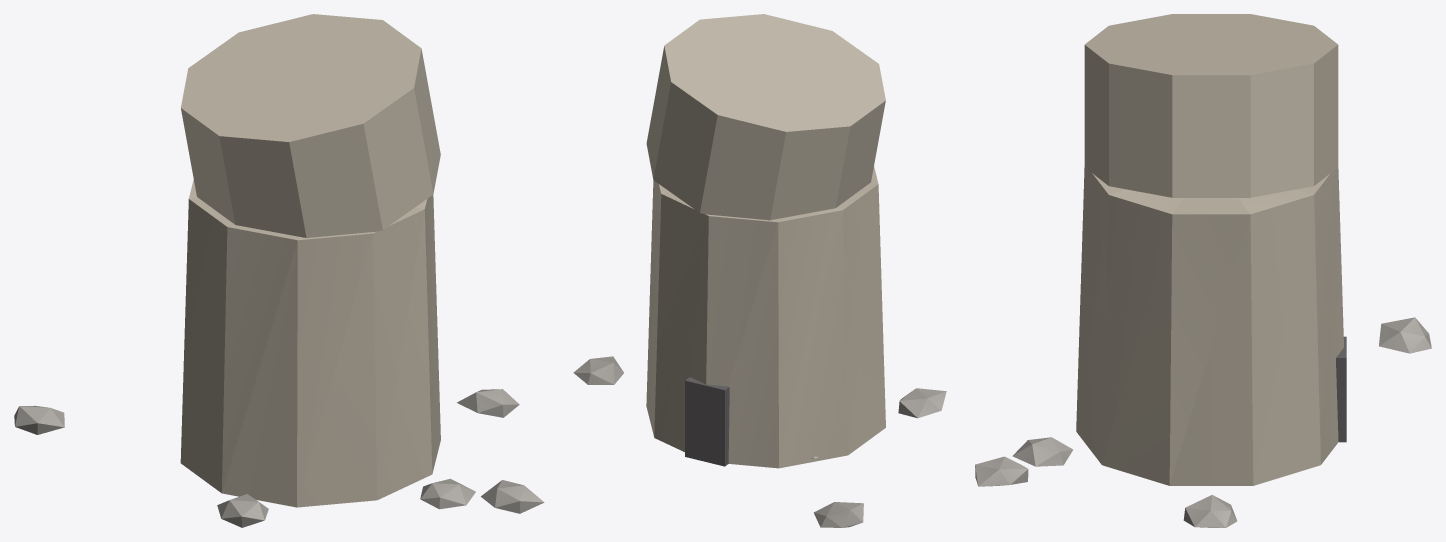
The picture shows the model from 3 angles, left to right: view 1: azimuth 30°, elevation 25°; view 2: azimuth 150°, elevation 25°; view 3: azimuth 270°, elevation 25°; orthographic projection. The views are drawn at different scales.
Parts seen in each view (by area): view 1: landmark.ruined_tower; view 2: landmark.ruined_tower; view 3: landmark.ruined_tower.
Part boxes in pixels (x1=…): landmark.ruined_tower: x1=14, y1=14, x2=544, y2=527; landmark.ruined_tower: x1=573, y1=14, x2=946, y2=527; landmark.ruined_tower: x1=975, y1=14, x2=1431, y2=527.
Size of the model in its own units: 11.19 by 10.49 by 10.81.
